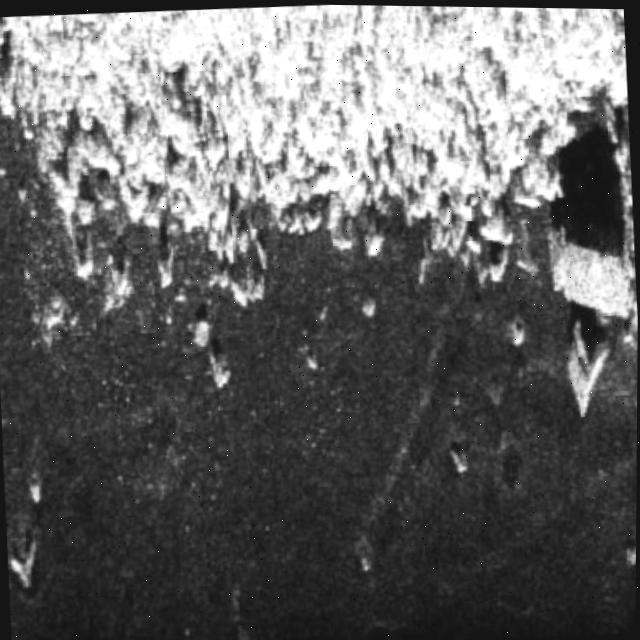bedrock group: (0, 0, 635, 270)
